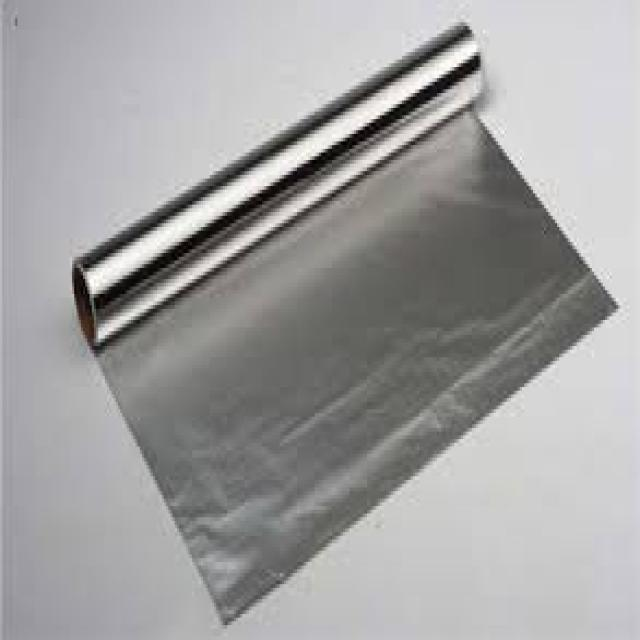metal: (72, 19, 618, 625)
